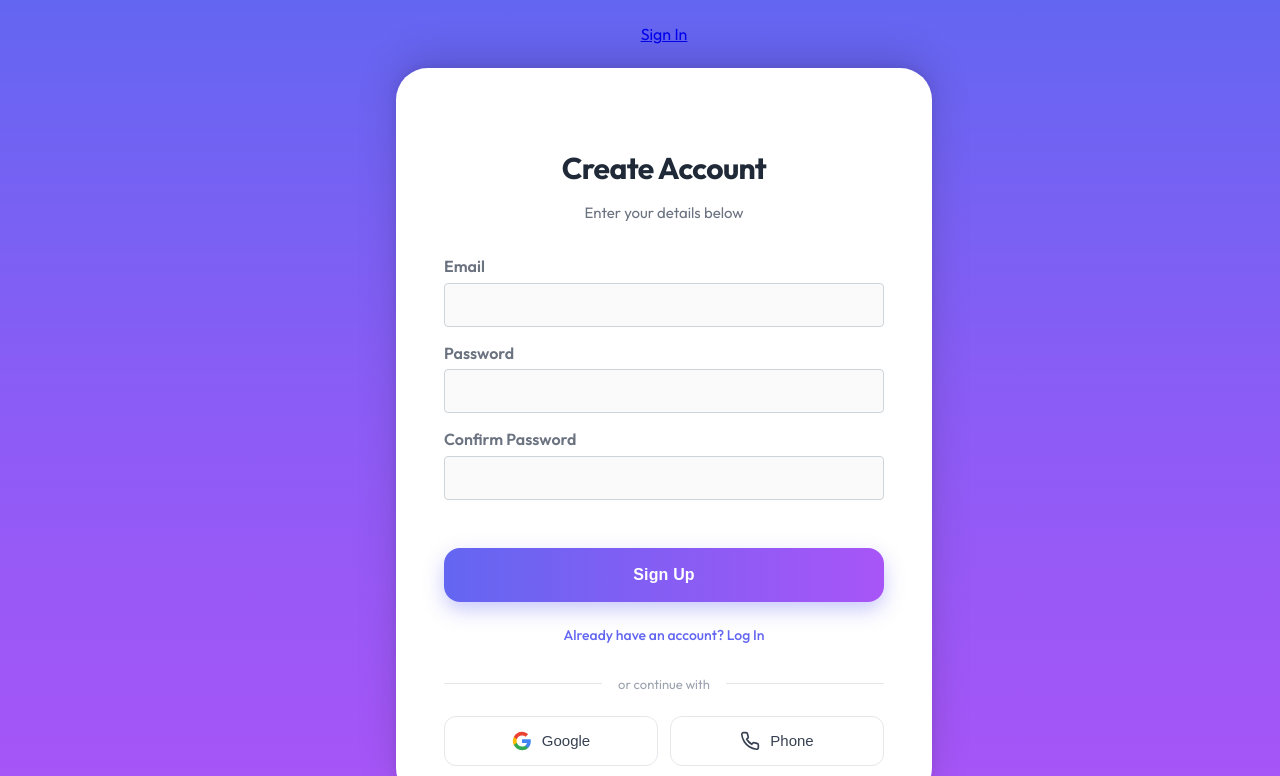
it: SignupPage › shows success message when signup succeeds
Type "user@example.com" into the field labelled "Email" at (664, 305), box [444,283,884,327]
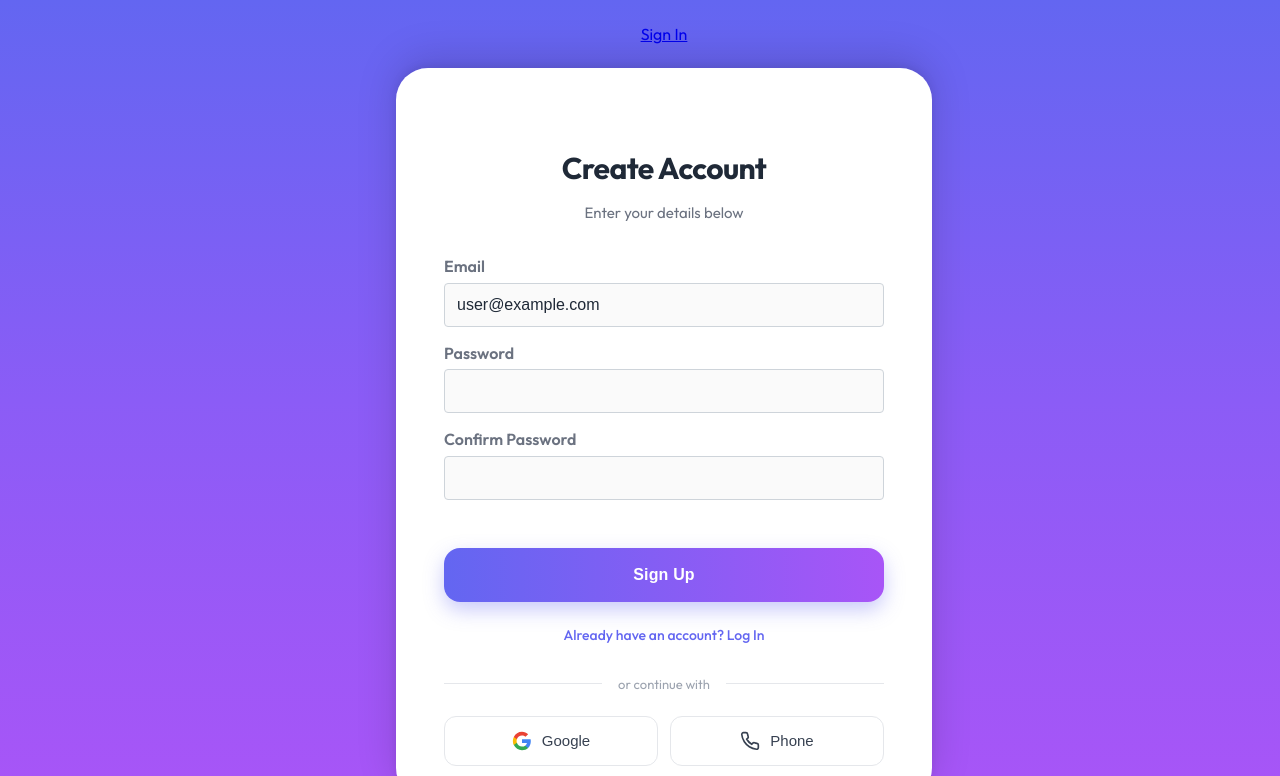
Type "Password123!" into the password field labelled "Password" at (664, 391), box [444,369,884,413]
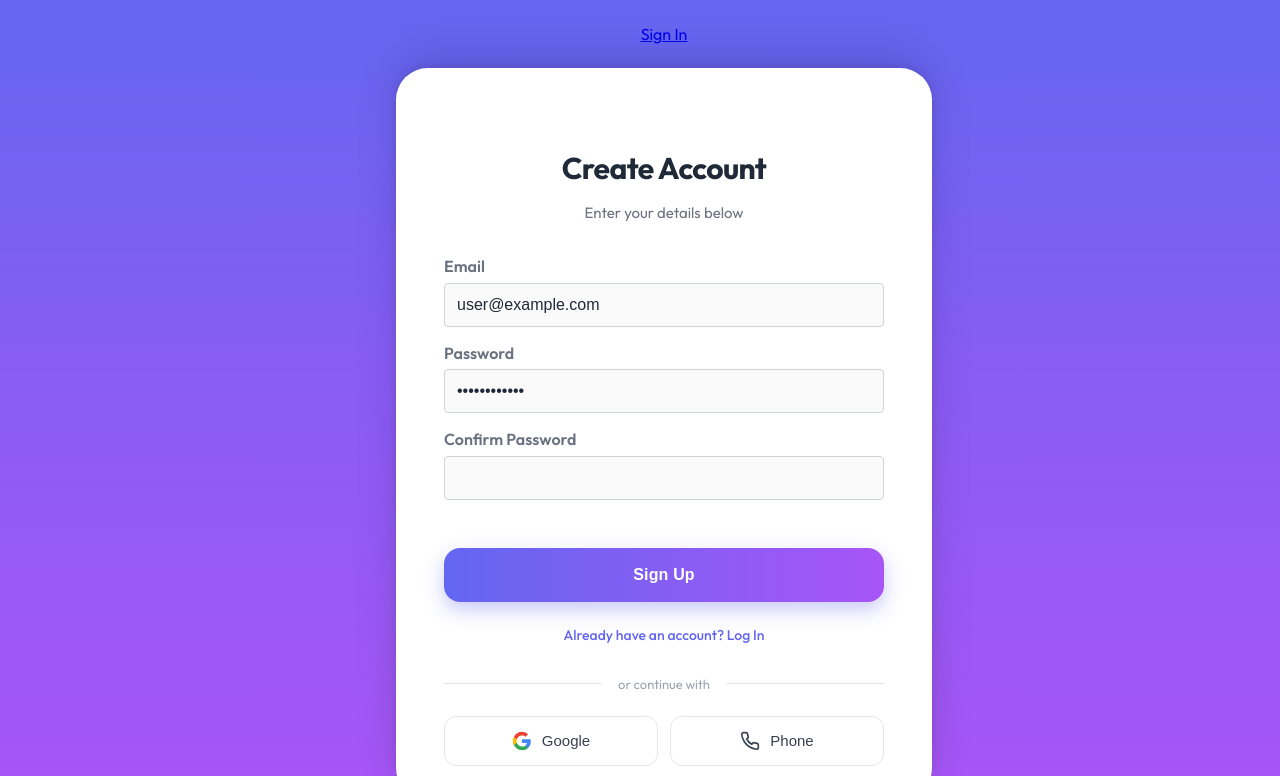
Type "Password123!" into the password field labelled "Confirm Password" at (664, 478), box [444,456,884,500]
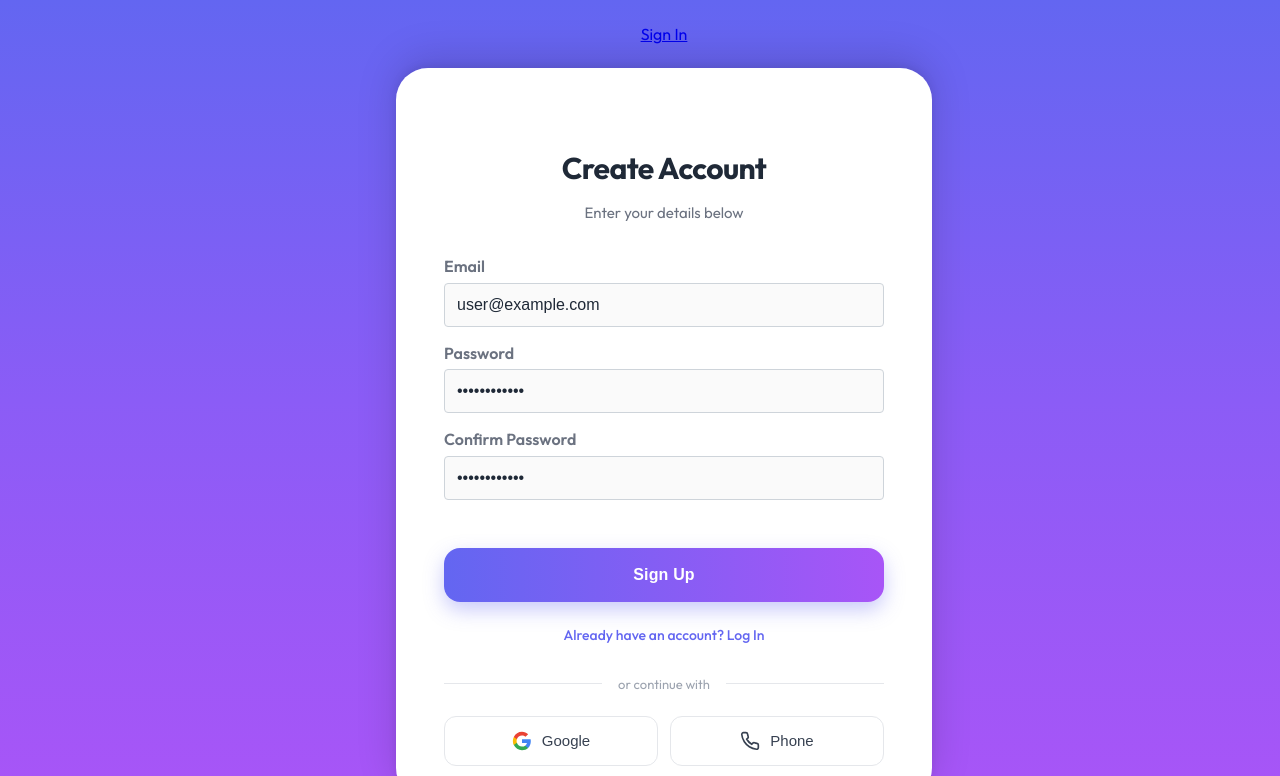
Click the button "Sign Up" at (664, 575), box [444,548,884,602]
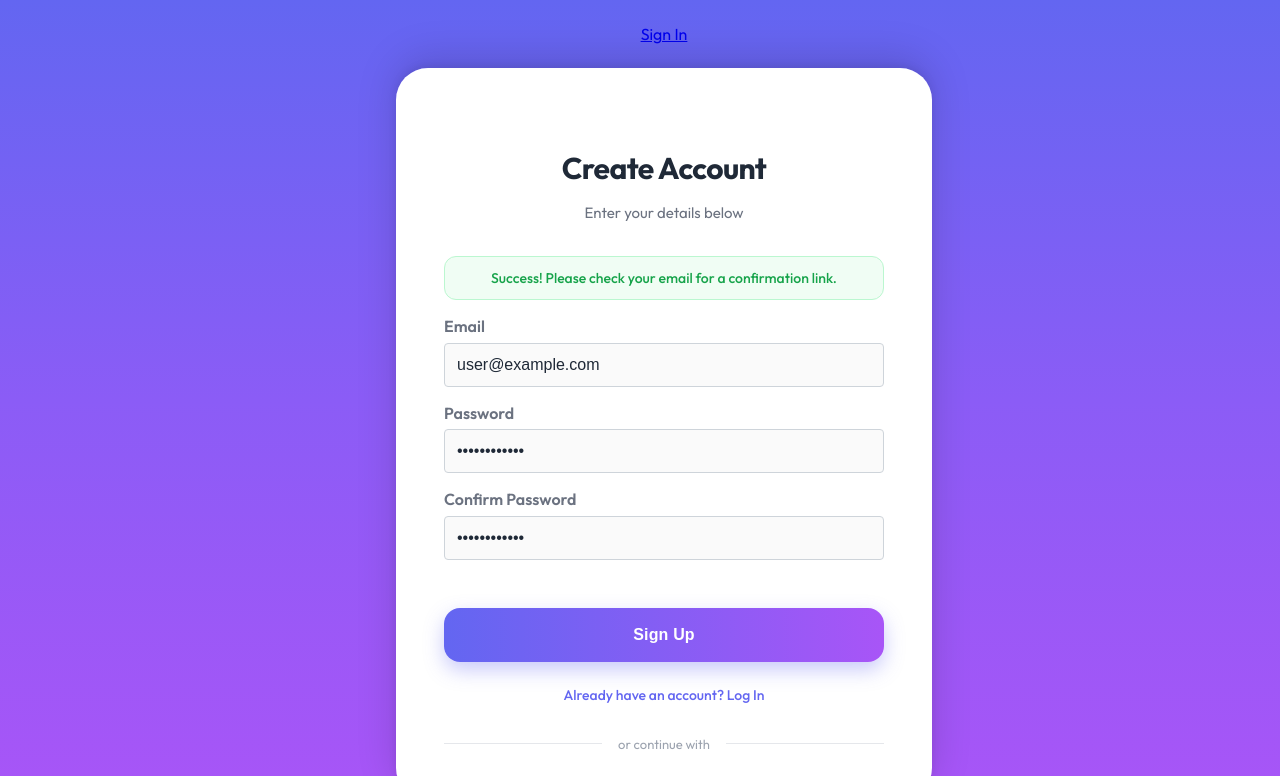
Expected: the text "Success! Please check your email for a confirmation link." is shown, [444,256,884,300]
